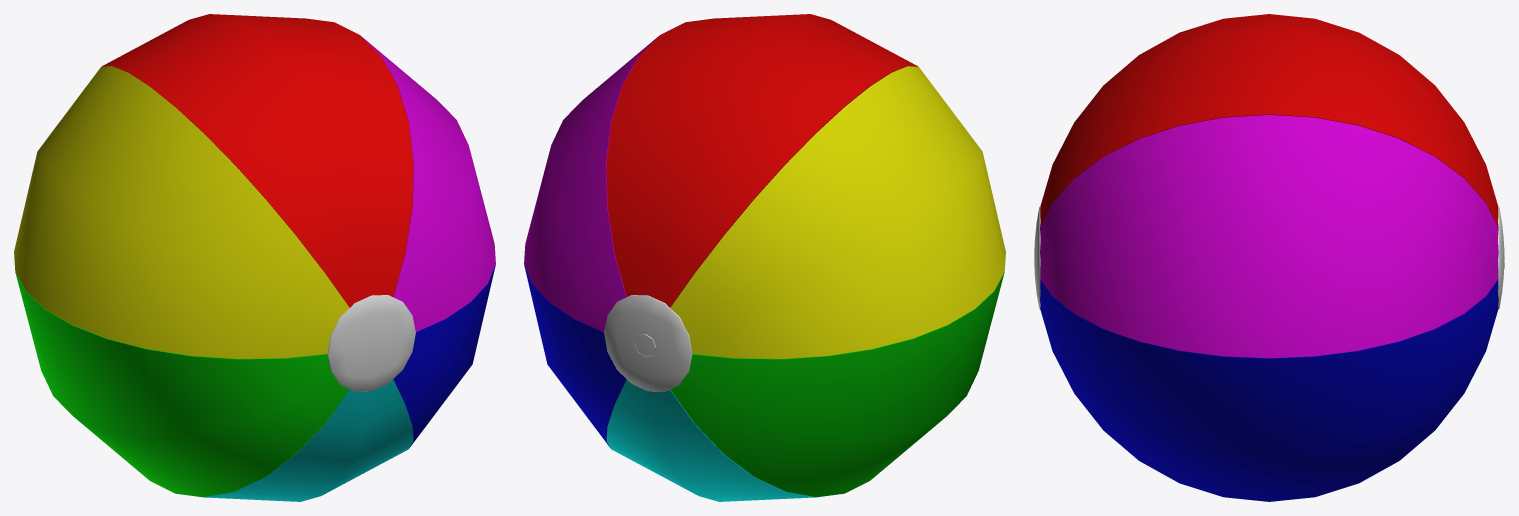
File: Ball - Copy.fbx
3 renders of one model, left to right at view 1: azimuth 30°, elevation 25°; view 2: azimuth 150°, elevation 25°; view 3: azimuth 270°, elevation 25°, orthographic.
Parts seen in each view (by area): view 1: Ball; view 2: Ball; view 3: Ball.
Boxes of the visible parts, <box> form: Ball: <box>14,14,495,501</box>; Ball: <box>524,14,1005,501</box>; Ball: <box>1034,14,1504,501</box>.
Bounding box in the file's own units: 144 × 149 × 142.
